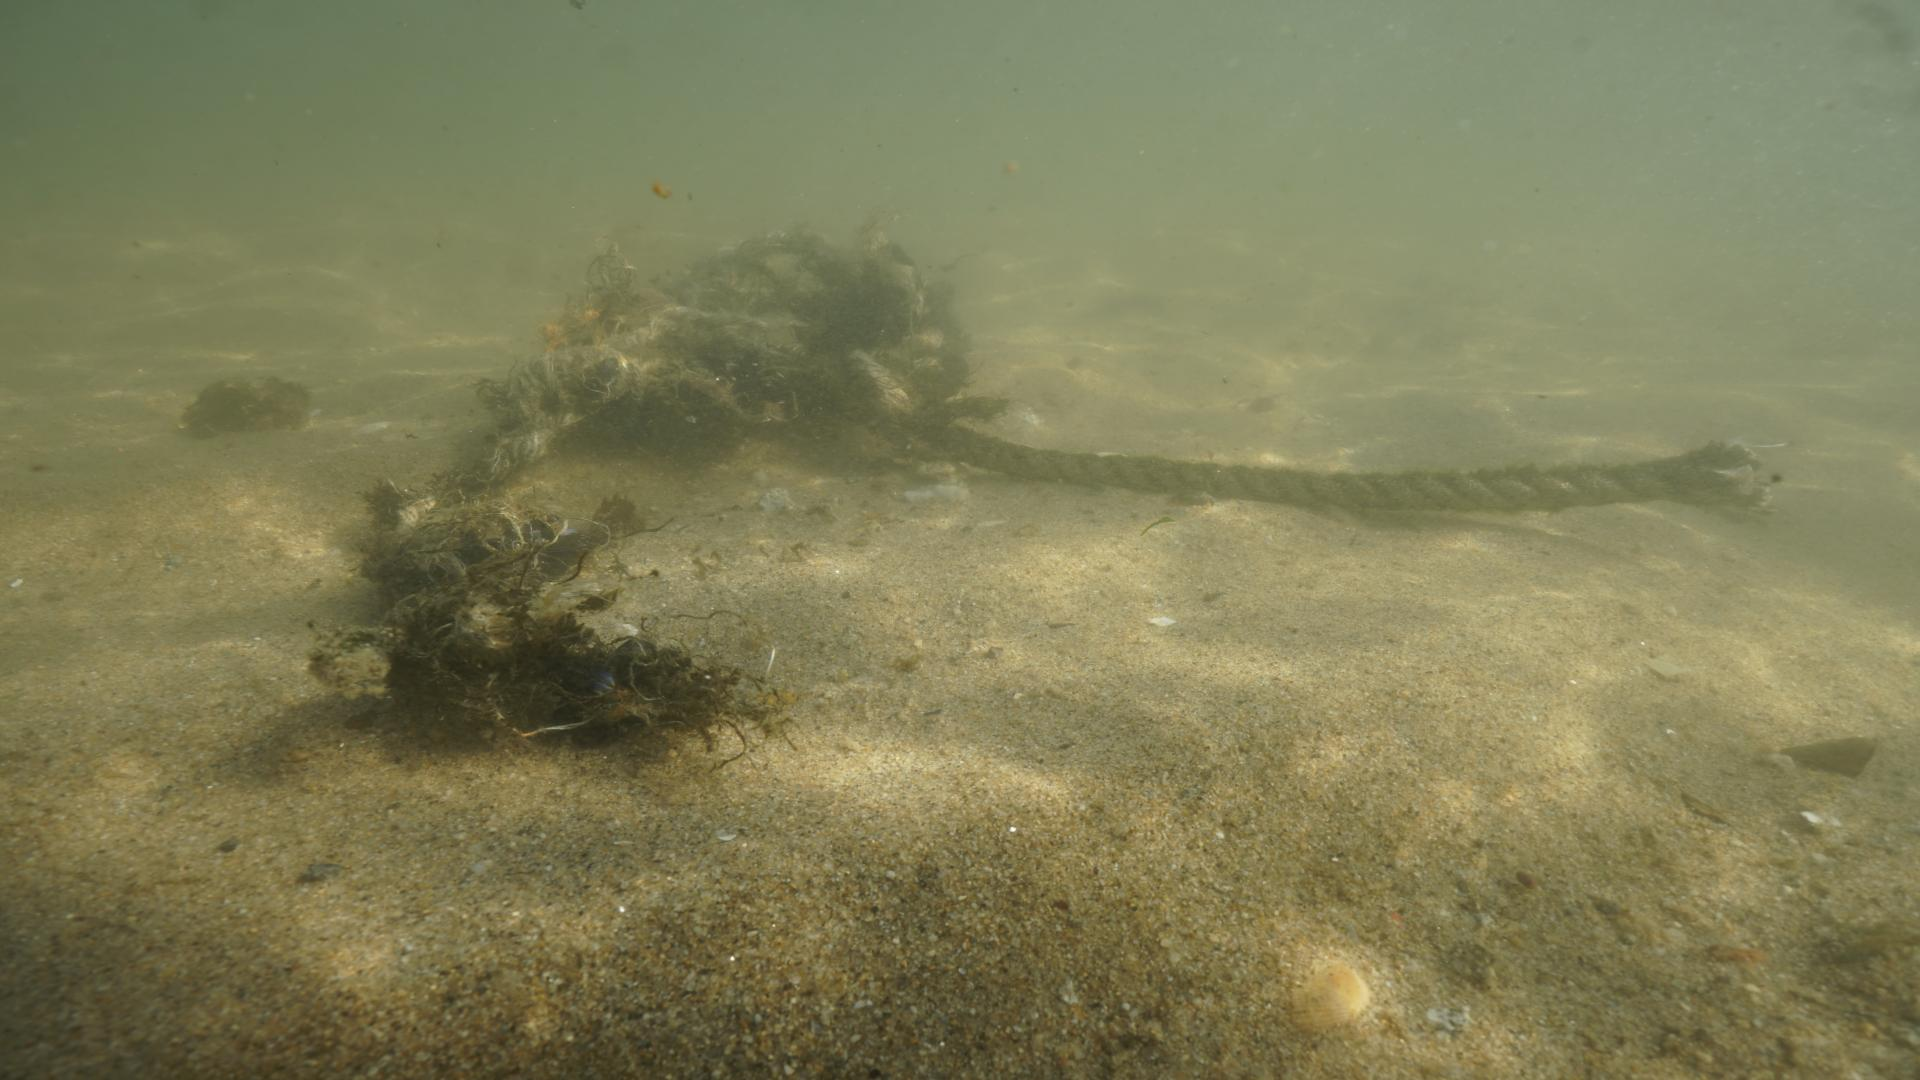rope: (930, 431, 1683, 512)
